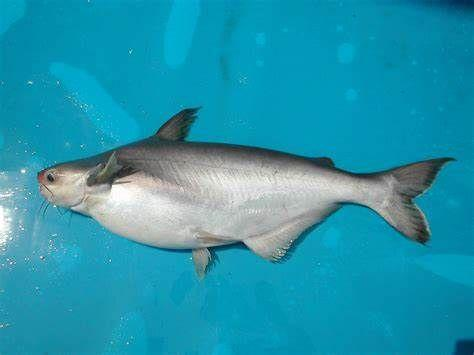Pangasius: (37, 107, 456, 276)
